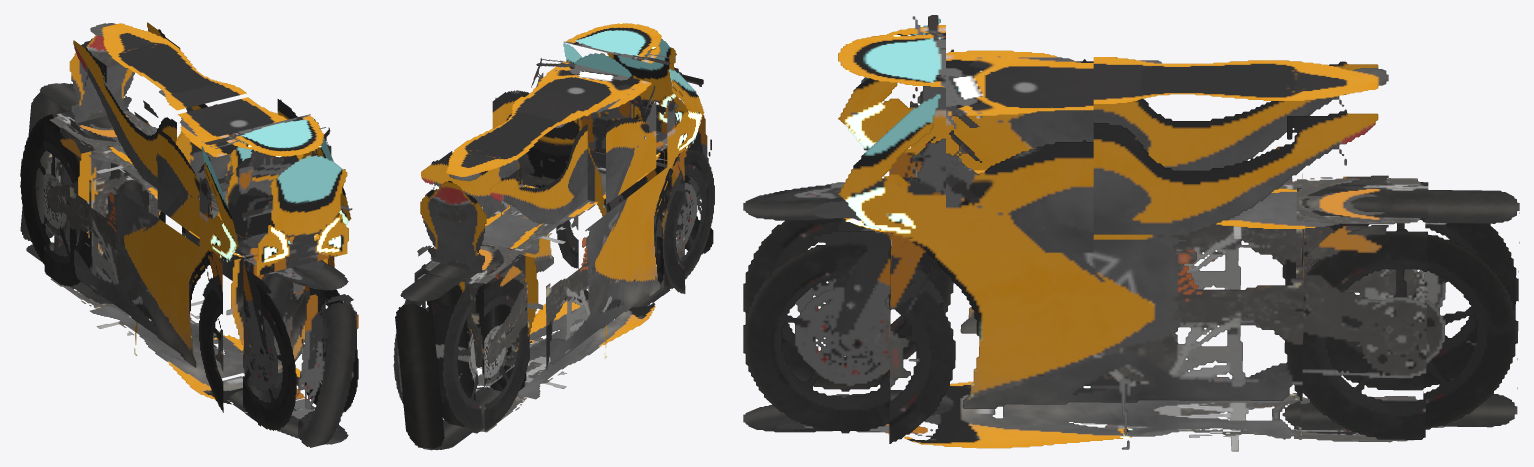
File: motorcycle-512.glb
3 renders of one model, left to right at view 1: azimuth 30°, elevation 25°; view 2: azimuth 150°, elevation 25°; view 3: azimuth 270°, elevation 25°, orthographic. The views are drawn at different scales.
Parts seen in each view (by area): view 1: box_impostor; view 2: box_impostor; view 3: box_impostor.
Boxes of the visible parts, bbox=[...] form: box_impostor: bbox=[20, 22, 358, 447]; box_impostor: bbox=[393, 23, 714, 450]; box_impostor: bbox=[743, 15, 1519, 451].
Size of the model in its own units: 0.6773 by 1.31 by 2.51.
Materials: 1 (1 with a texture image).
